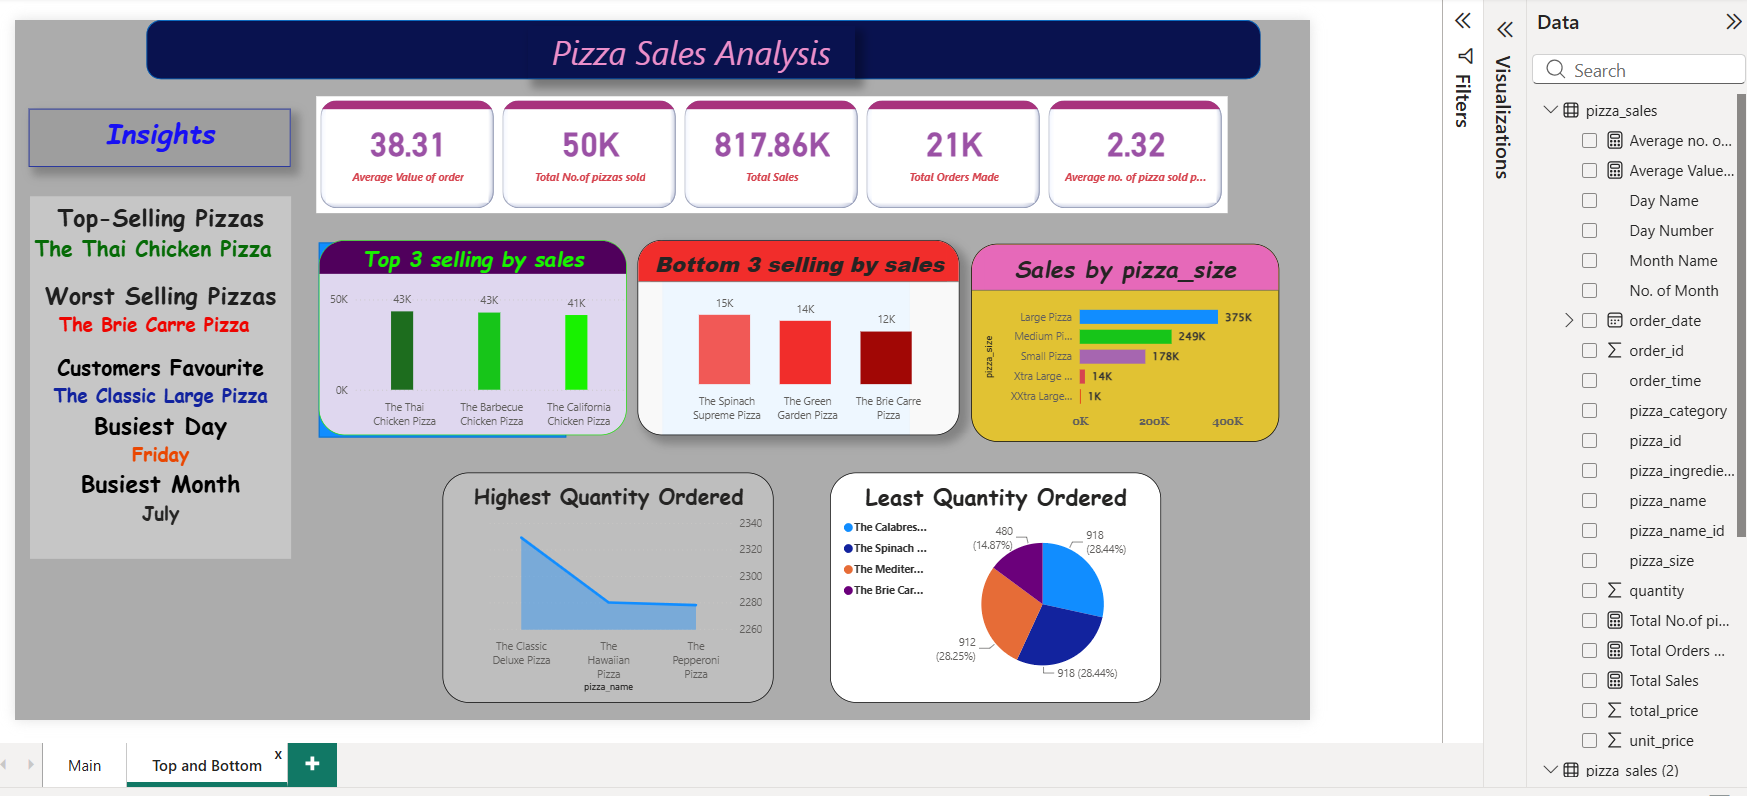

This screenshot's page, from the dashboard's own definition file:
{"tool":"powerbi","page":{"name":"Top and Bottom ","canvas":[1480,800],"ordinal":1},"visuals":[{"type":"cardVisual","fields":{"Data":["pizza_sales.Average Value of order","pizza_sales.Total No.of pizzas sold","pizza_sales.Total Sales","pizza_sales.Total Orders Made","pizza_sales.Average no. of pizza sold per order"]},"box":[345,86.7,1041.7,133.3],"z":0},{"type":"shape","box":[149.7,0,1273.8,67.9],"z":1000},{"type":"textbox","box":[586.3,6.9,374.2,61],"z":2000},{"type":"shape","box":[347.1,254.3,282.9,222.9],"z":3000},{"type":"shape","box":[740,251.4,282.9,222.9],"z":4000},{"type":"clusteredColumnChart","title":"Top 3 selling by sales","fields":{"Category":["pizza_sales.pizza_name"],"Y":["pizza_sales.Total Sales"]},"box":[346.7,251.7,351.7,223.3],"z":5000},{"type":"clusteredColumnChart","title":"Bottom 3 selling by sales","fields":{"Category":["pizza_sales.pizza_name"],"Y":["pizza_sales.Total Sales"]},"box":[711.7,251.7,368.3,223.3],"z":6000},{"type":"barChart","title":"Sales by pizza_size","fields":{"Y":["pizza_sales.Total Sales"],"Category":["pizza_sales.pizza_size"]},"box":[1093.3,255,351.7,226.7],"z":7000},{"type":"areaChart","title":"Highest Quantity Ordered","fields":{"Category":["pizza_sales.pizza_name"],"Y":["pizza_sales.Total Orders Made"]},"box":[488.3,516.7,378.3,263.3],"z":8000},{"type":"pieChart","title":"Least Quantity Ordered","fields":{"Category":["pizza_sales.pizza_name"],"Y":["pizza_sales.Total Orders Made"]},"box":[931.7,516.7,378.3,263.3],"z":9000},{"type":"textbox","box":[16,102,298.8,66.6],"z":10000},{"type":"textbox","box":[17.5,201.7,298.5,414.1],"z":11000}]}

Visuals, with their boxes on the page's 1480x800 design canvas (x1, y1, x2, y2). These are canvas units, not pixel positions in the 1747x796 screenshot, which may show the page scaled, cropped or inside an application window:
cardVisual - pizza_sales.Average Value of order x pizza_sales.Total No.of pizzas sold: region(345, 87, 1387, 220)
shape: region(150, 0, 1424, 68)
textbox: region(586, 7, 960, 68)
shape: region(347, 254, 630, 477)
shape: region(740, 251, 1023, 474)
"Top 3 selling by sales" clusteredColumnChart: region(347, 252, 698, 475)
"Bottom 3 selling by sales" clusteredColumnChart: region(712, 252, 1080, 475)
"Sales by pizza_size" barChart: region(1093, 255, 1445, 482)
"Highest Quantity Ordered" areaChart: region(488, 517, 867, 780)
"Least Quantity Ordered" pieChart: region(932, 517, 1310, 780)
textbox: region(16, 102, 315, 169)
textbox: region(18, 202, 316, 616)
